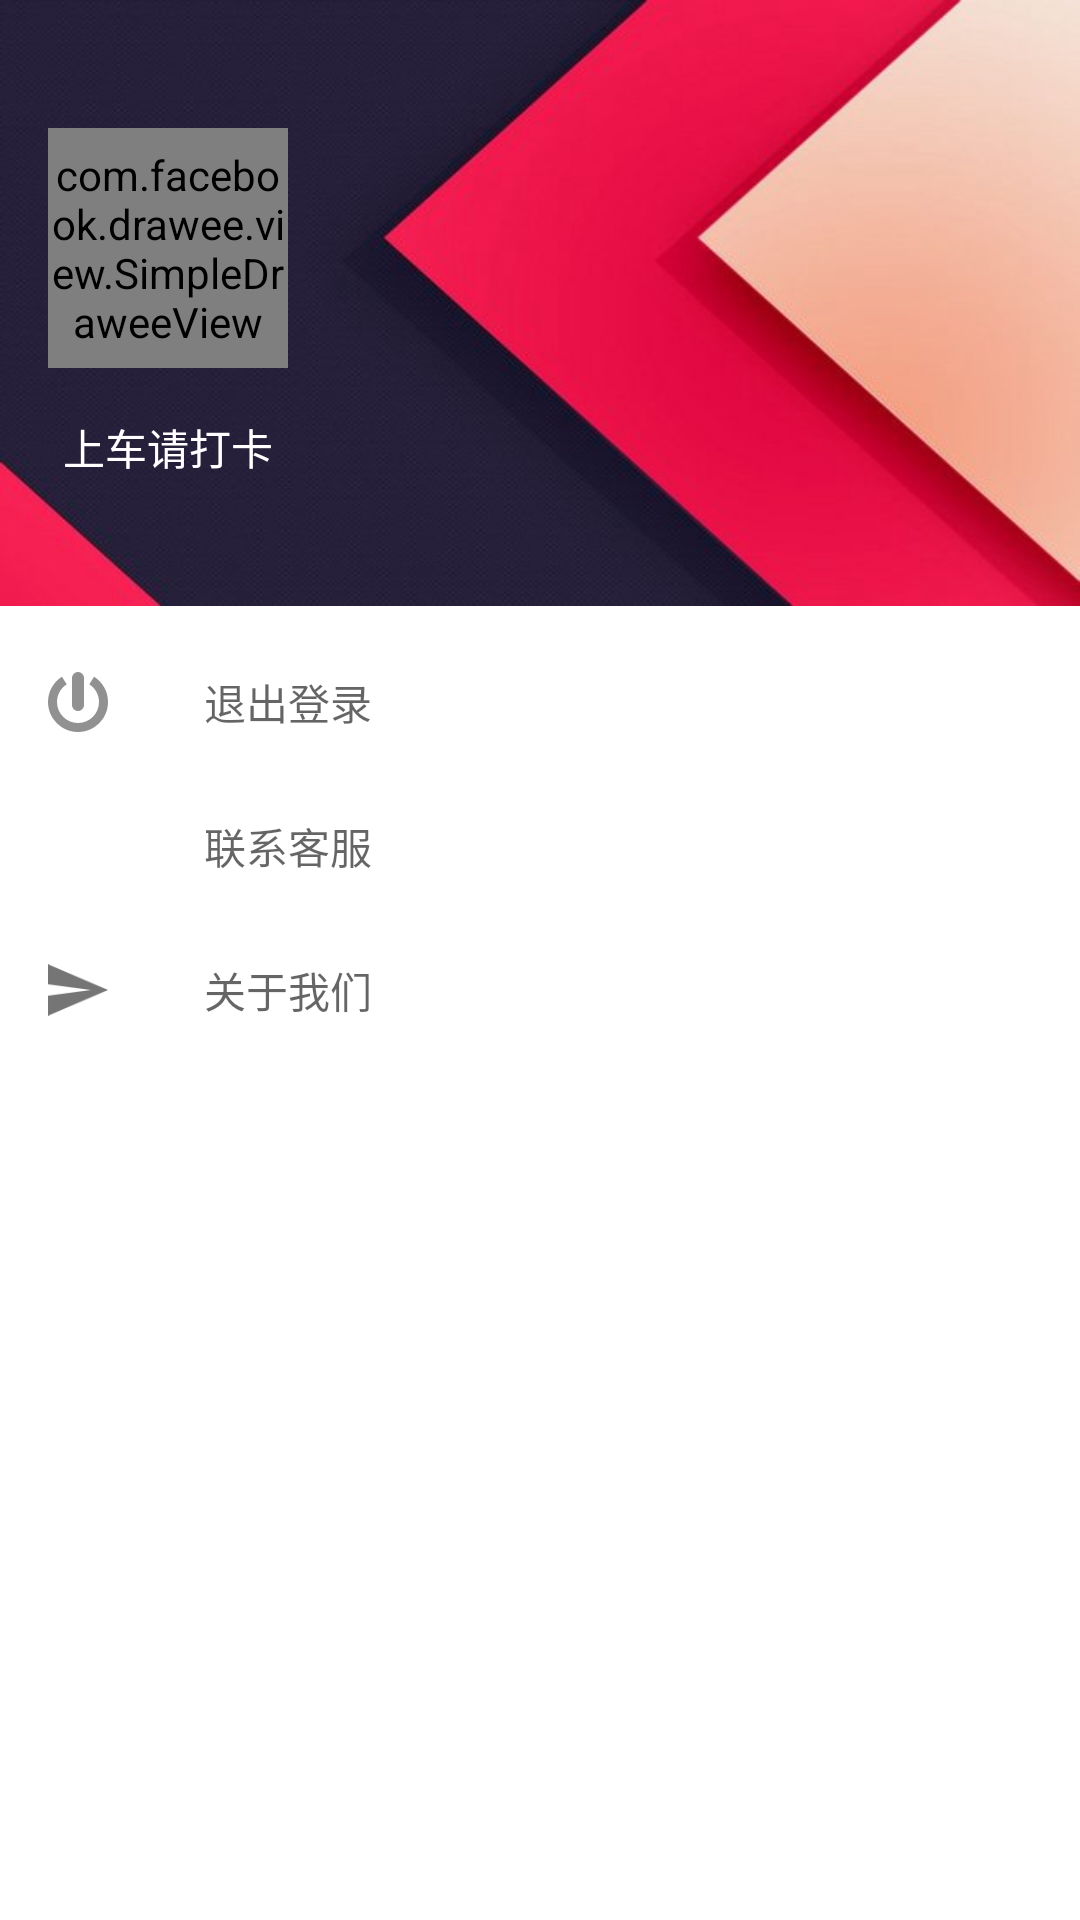

Point at icon controls on the screen. Image size 1080×1920, points as (x=x, y=y).
quit login: (x=78, y=702)
